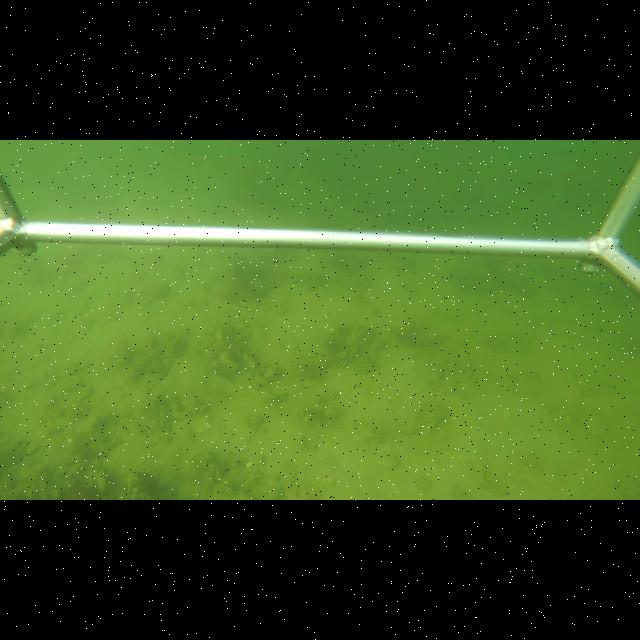Oyster-Closed: (269, 384, 290, 398)
